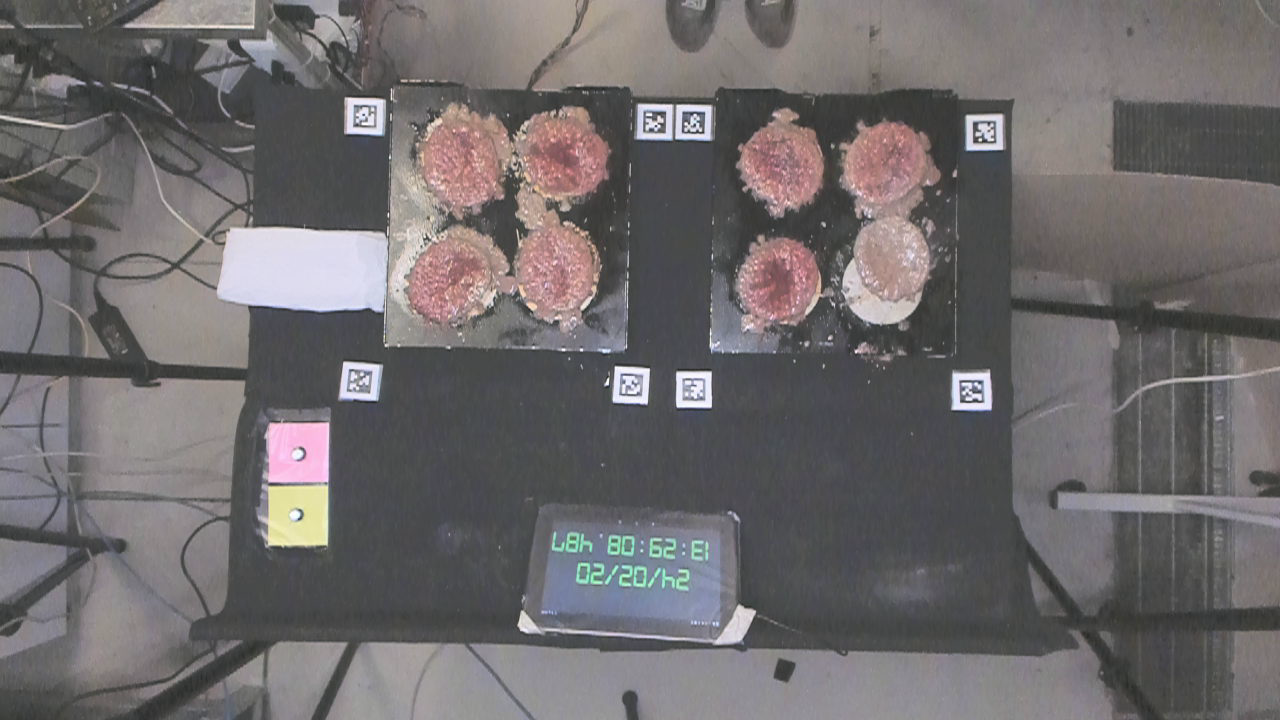hamburger: (396, 238, 500, 326), (838, 116, 936, 208), (514, 229, 600, 325), (732, 120, 819, 212), (734, 232, 820, 324), (513, 120, 613, 198), (849, 216, 937, 304), (414, 120, 492, 202)
marker: (264, 423, 330, 486)
